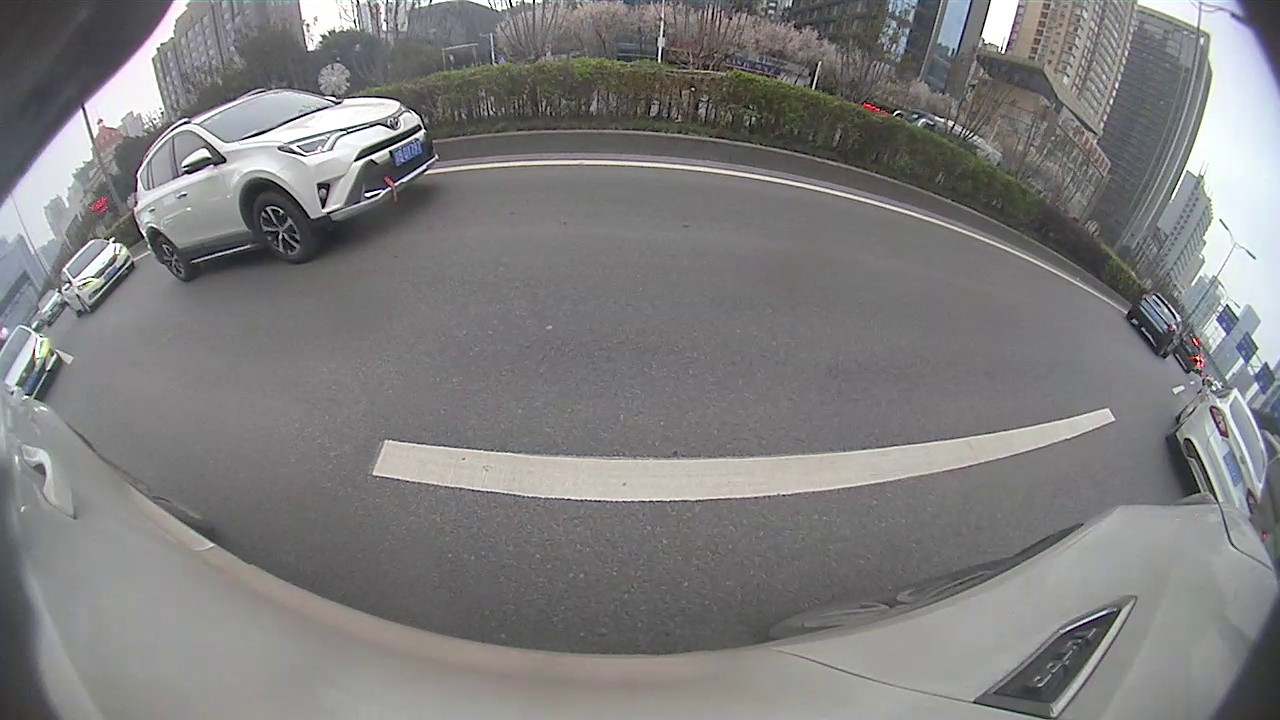car: (132, 84, 440, 283), (1164, 378, 1270, 518), (57, 234, 136, 318), (1, 324, 63, 401), (1124, 288, 1185, 358)
front: (251, 195, 312, 264)
rear: (152, 242, 188, 281)
